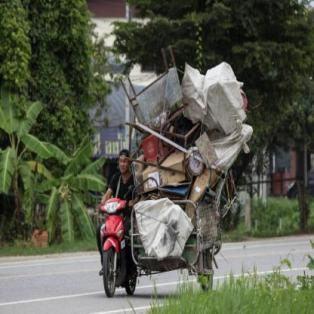Motocicleta: (91, 187, 129, 301)
